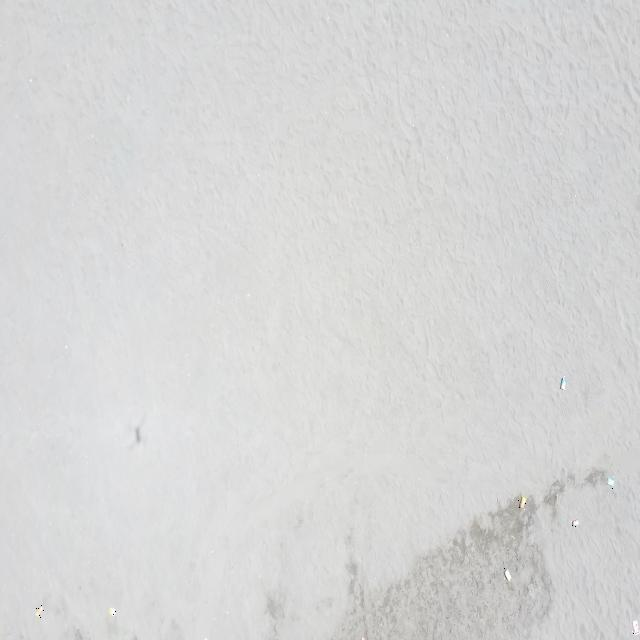retort-pouch: (559, 376, 567, 394), (518, 495, 527, 511), (503, 568, 512, 584), (632, 620, 640, 637), (35, 604, 44, 618), (571, 516, 579, 530), (608, 476, 616, 489), (108, 606, 116, 618), (361, 634, 366, 640)
